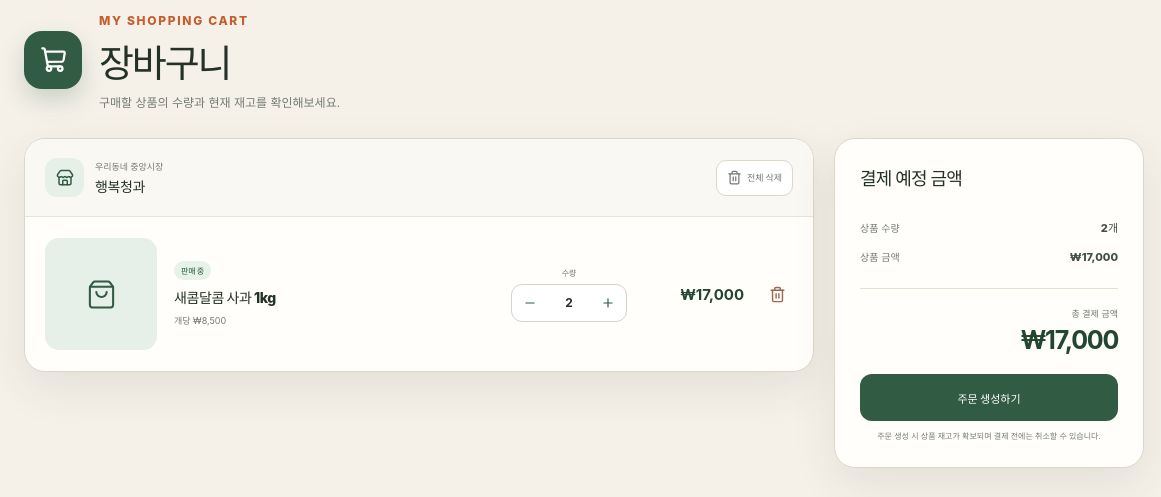
Test case: CartPage › 장바구니 상품과 합계 금액을 표시하고 수량을 변경한다
Expected: the link "새콤달콤 사과 1kg" is shown, [174, 287, 276, 307]
Expected: the text "₩17,000" is shown 3 times, [680, 284, 744, 304]; [1070, 250, 1118, 264]; [1020, 325, 1118, 355]
Step 1. Click the button named "새콤달콤 사과 1kg 수량 늘리기" → (608, 302), box [590, 284, 626, 320]
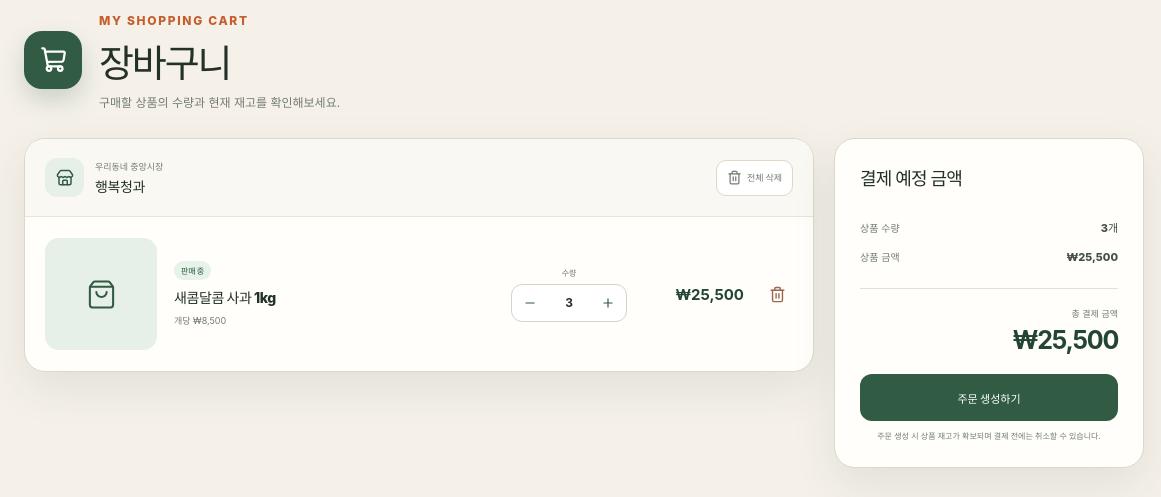
Expected: the text "₩25,500" is shown 3 times, [676, 284, 744, 304]; [1066, 250, 1118, 264]; [1013, 325, 1118, 355]
Now the text "3개" is shown, box [1101, 219, 1118, 235]
